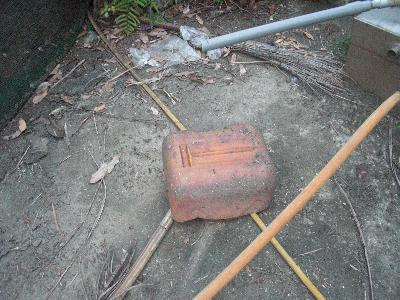box: (161, 122, 281, 225)
